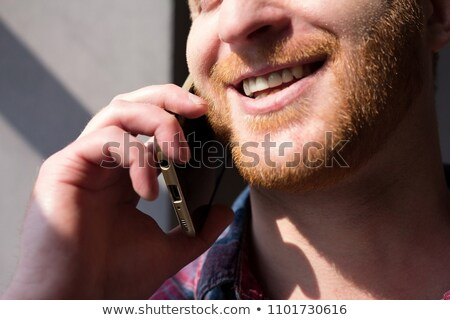phone: (136, 66, 219, 234)
